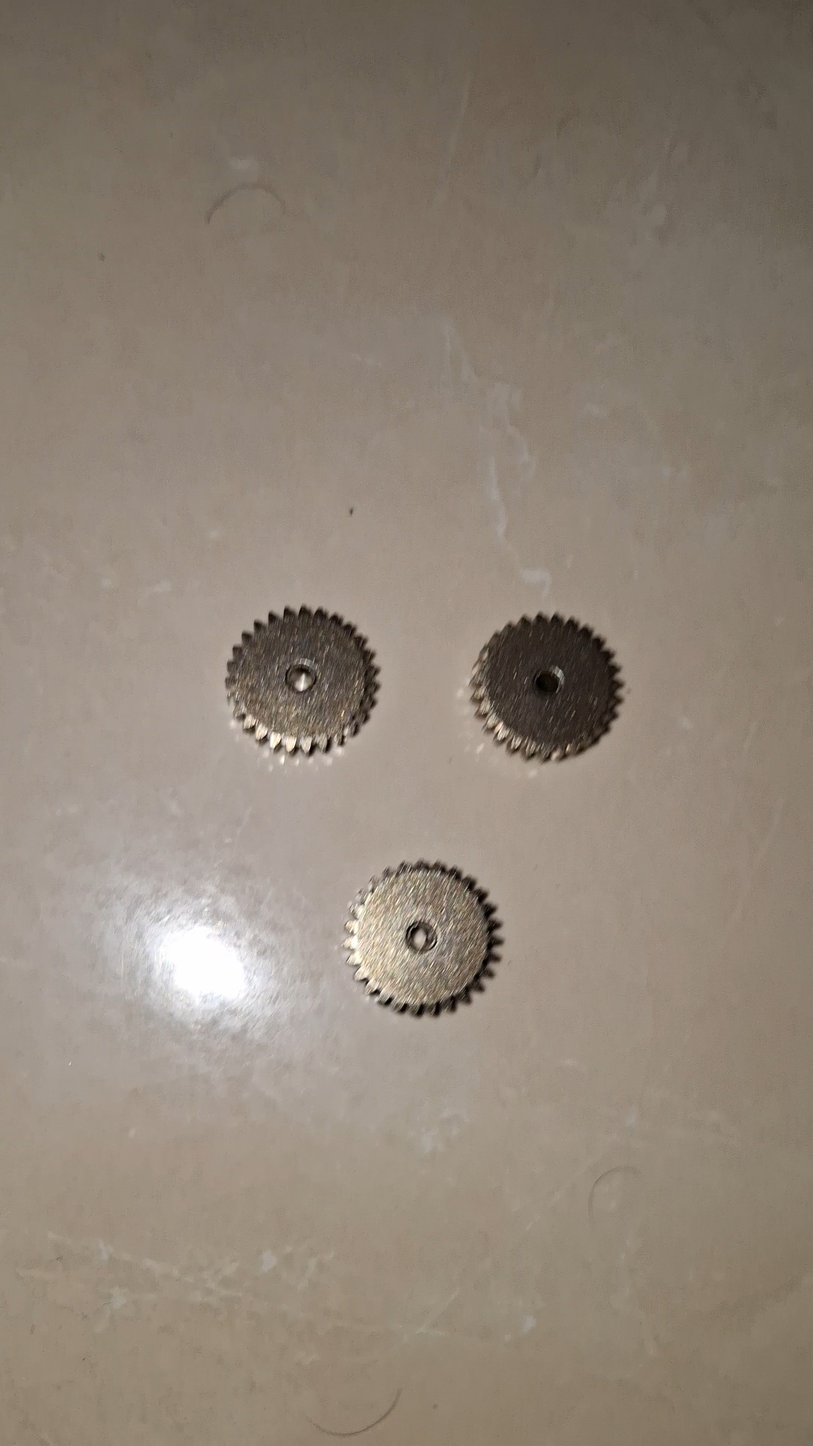spur gear: (346, 862, 499, 1013), (226, 607, 377, 752), (472, 614, 620, 759)
